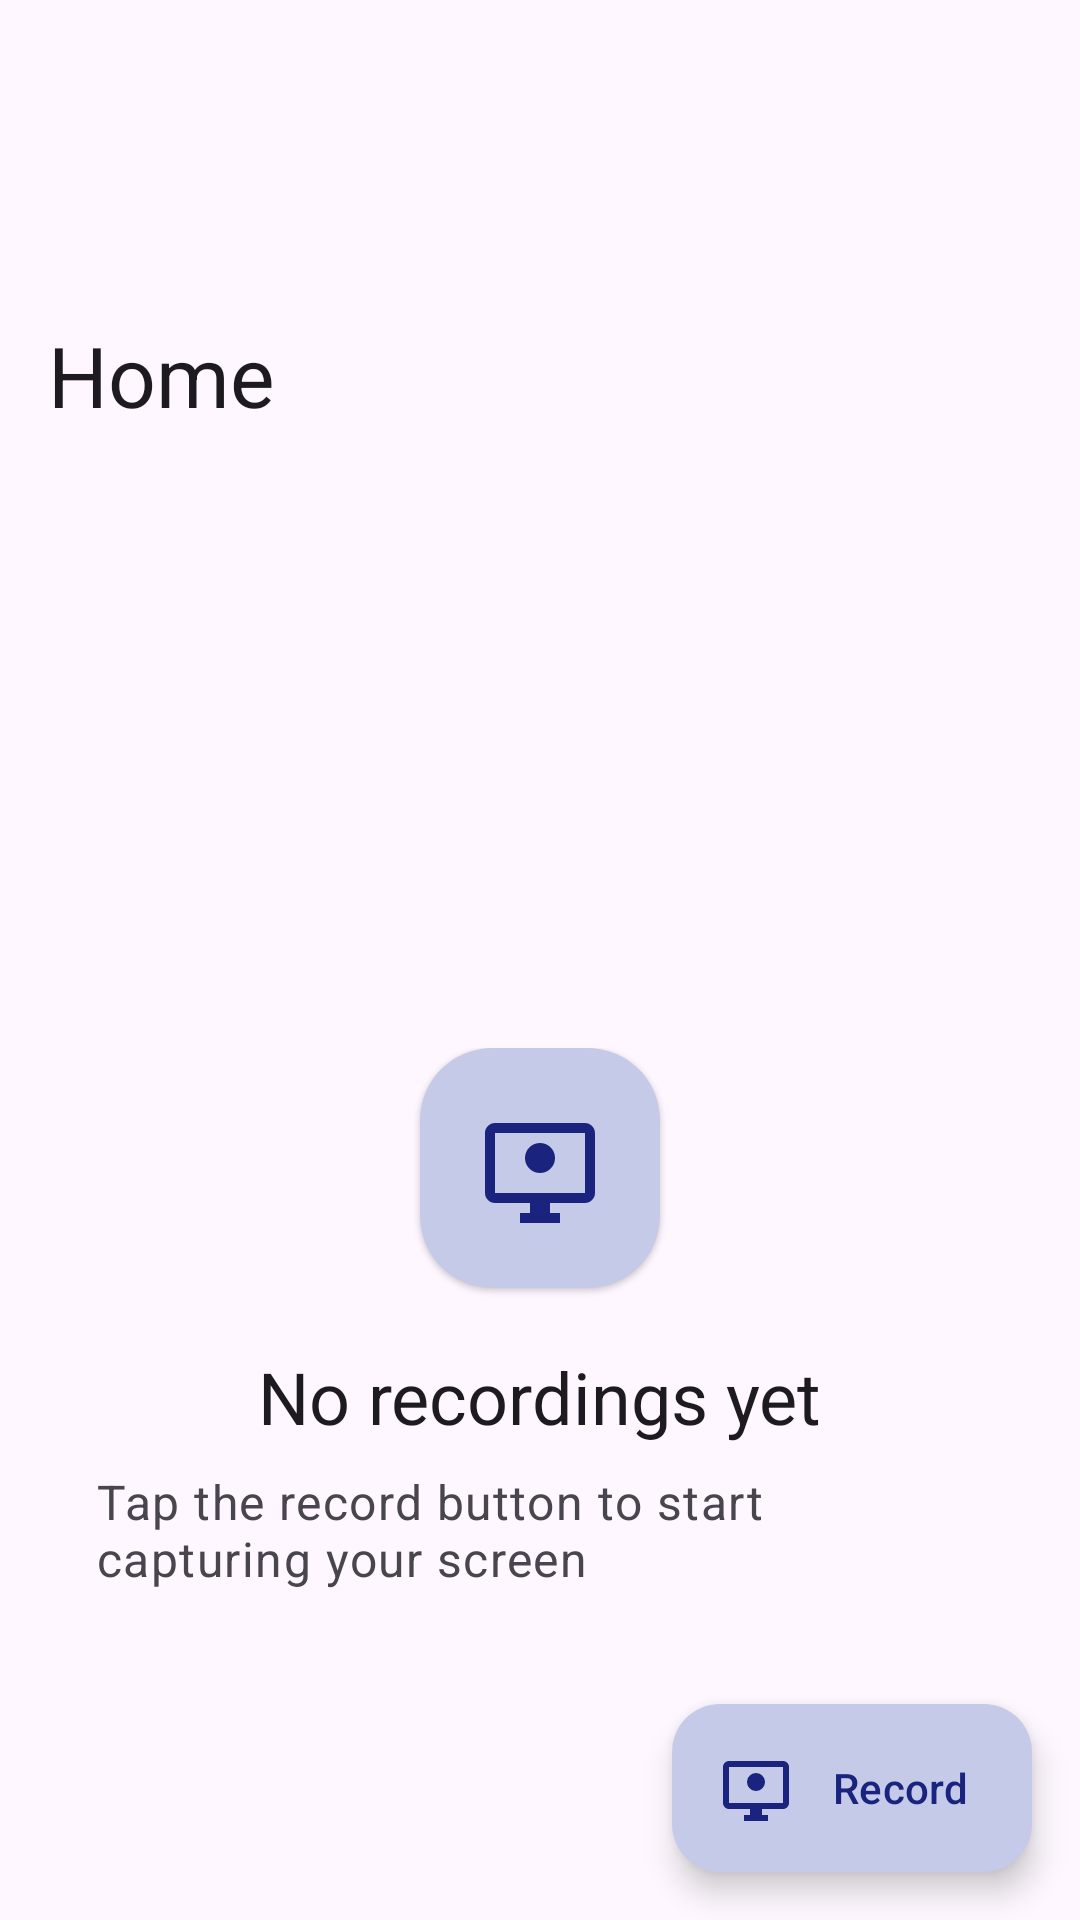

Named icons in this screenshot (1080×1920) and their centers, (x,y):
screen record: (540,1173)
